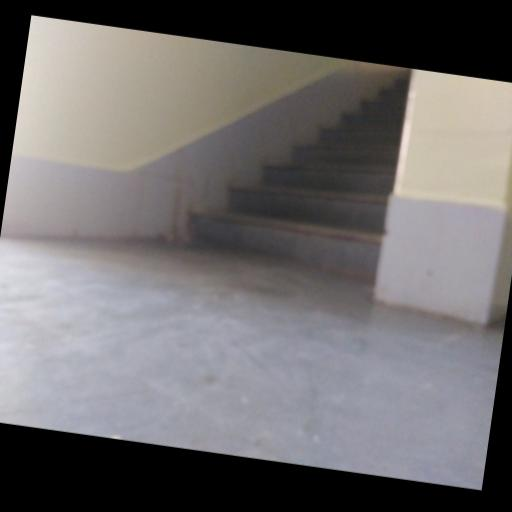stairs: (190, 80, 409, 280)
